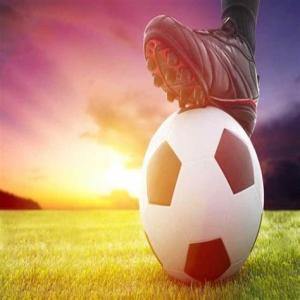Football: (139, 101, 266, 286)
